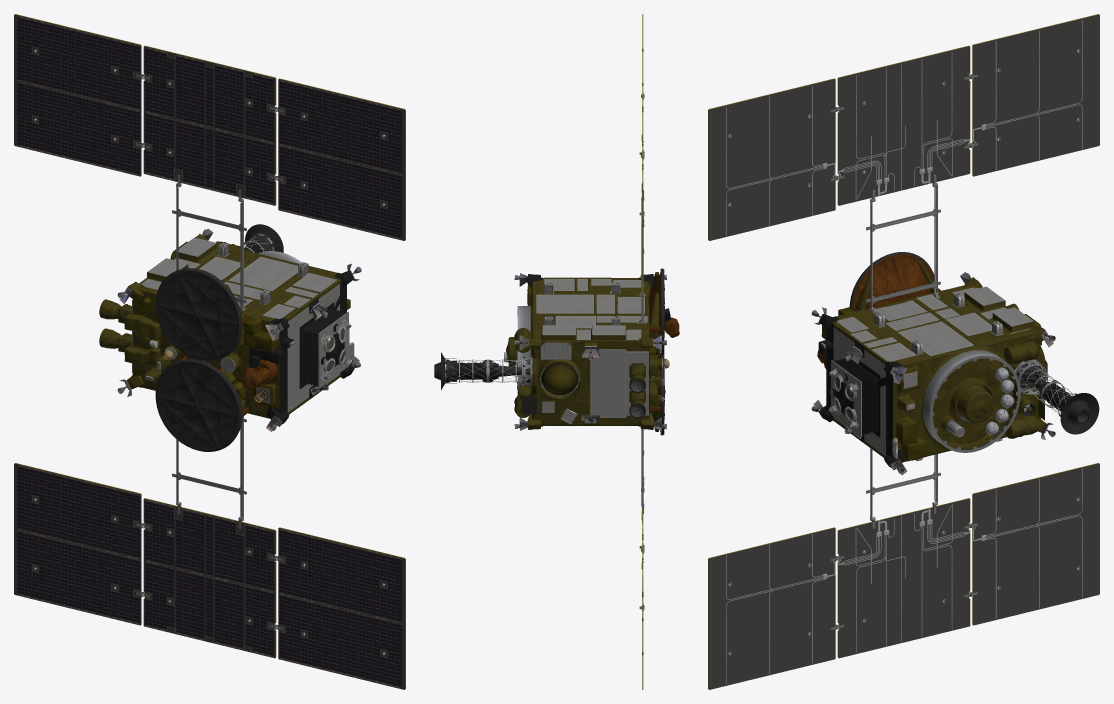
The model's file is hayabusa2.obj.
The picture shows the model from 3 angles, left to right: view 1: azimuth 30°, elevation 25°; view 2: azimuth 150°, elevation 25°; view 3: azimuth 270°, elevation 25°; orthographic projection. The views are drawn at different scales.
Bounding box in the file's own units: 27.07 × 60 × 36.69.
Materials: 7 (7 with a texture image).
